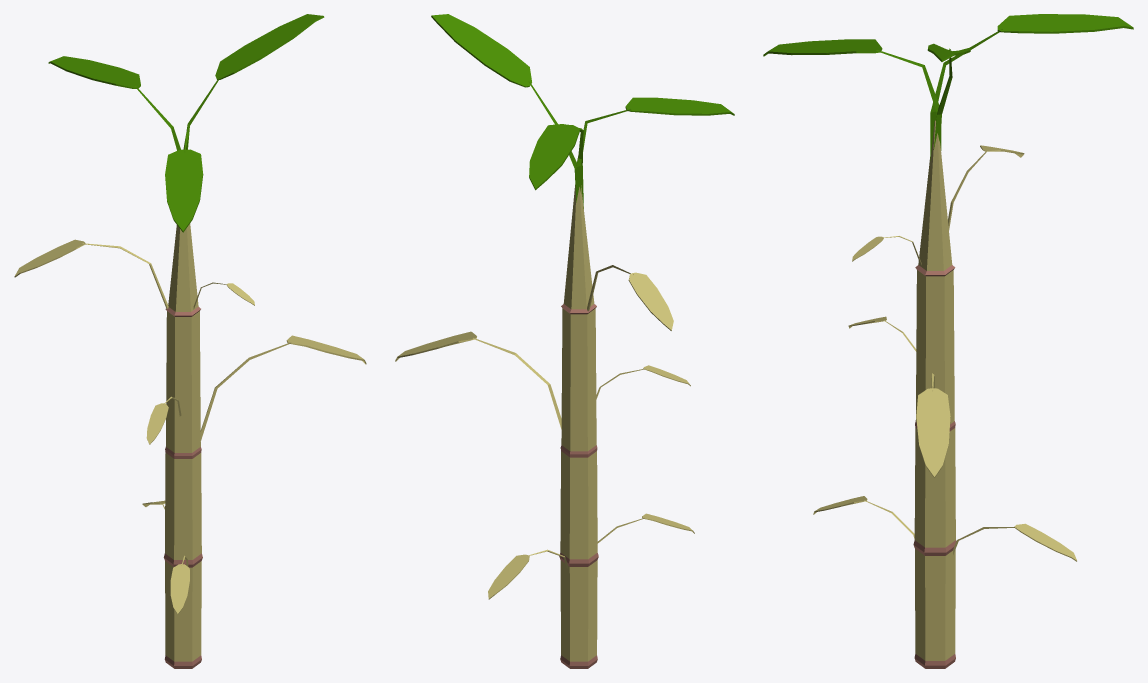
The model's file is Misc_SugarCane_Crown.fbx.
3 renders of one model, left to right at view 1: azimuth 30°, elevation 25°; view 2: azimuth 150°, elevation 25°; view 3: azimuth 270°, elevation 25°, orthographic. The views are drawn at different scales.
Parts seen in each view (by area): view 1: Misc_SugarCane_Crown; view 2: Misc_SugarCane_Crown; view 3: Misc_SugarCane_Crown.
Part boxes in pixels (<box>): Misc_SugarCane_Crown: <box>14,14,366,668</box>; Misc_SugarCane_Crown: <box>395,14,734,668</box>; Misc_SugarCane_Crown: <box>763,14,1133,668</box>.
Size of the model in its own units: 116 by 216 by 107.
